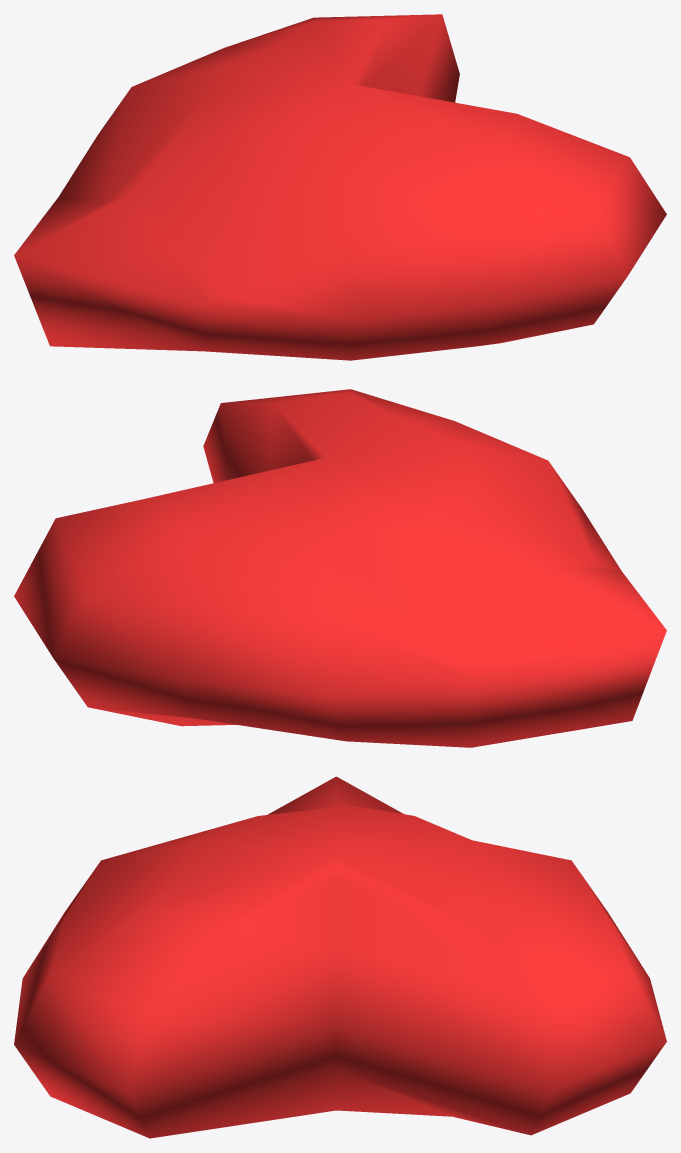
File: Herz.FBX
3 views of the same model, one above another, from view 1: azimuth 30°, elevation 25°; view 2: azimuth 150°, elevation 25°; view 3: azimuth 270°, elevation 25° (orthographic). The views are drawn at different scales.
Visible parts, largest first — view 1: Sphere001; view 2: Sphere001; view 3: Sphere001.
Boxes of the visible parts, bbox=[...] form: Sphere001: bbox=[14, 14, 666, 360]; Sphere001: bbox=[14, 389, 666, 747]; Sphere001: bbox=[14, 776, 666, 1138].
Bounding box in the file's own units: 33.79 × 13.13 × 32.02.
